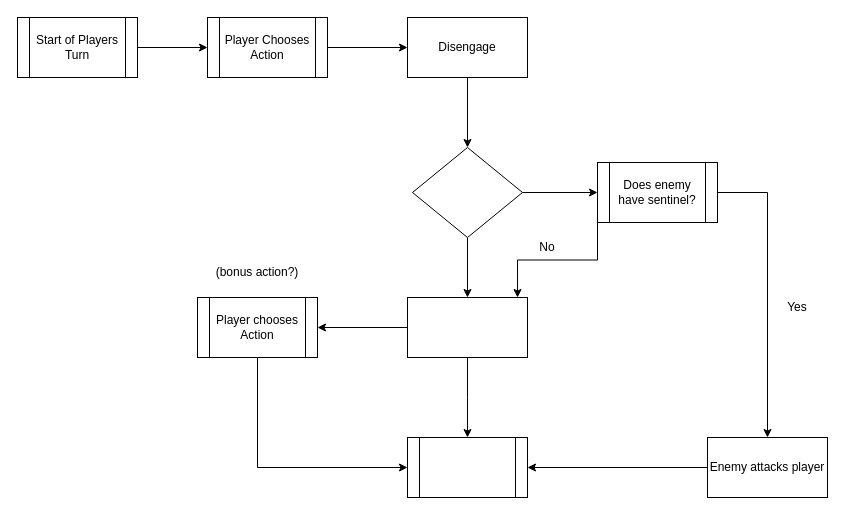
Some shapes in this 845 by 515 pixel diagram are drawn without their labels. The shapes that lost their labels are listed below. From the top down, each one's centre as x and y in pixels, then its label:
At (x=467, y=192): "Check if player is within enemy range".
At (x=467, y=327): "Uses players movement".
At (x=467, y=467): "End of Players Turn".
